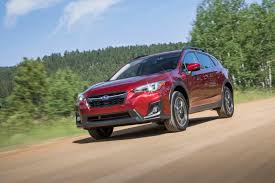car: (73, 47, 236, 139)
